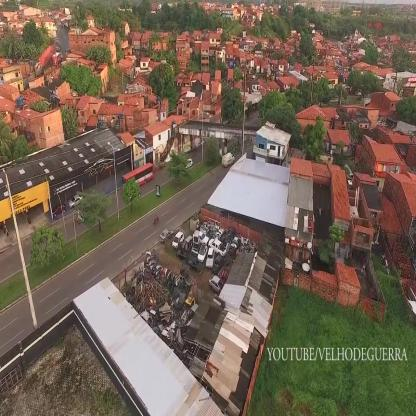lixo: (126, 264, 202, 336), (178, 228, 234, 273)
